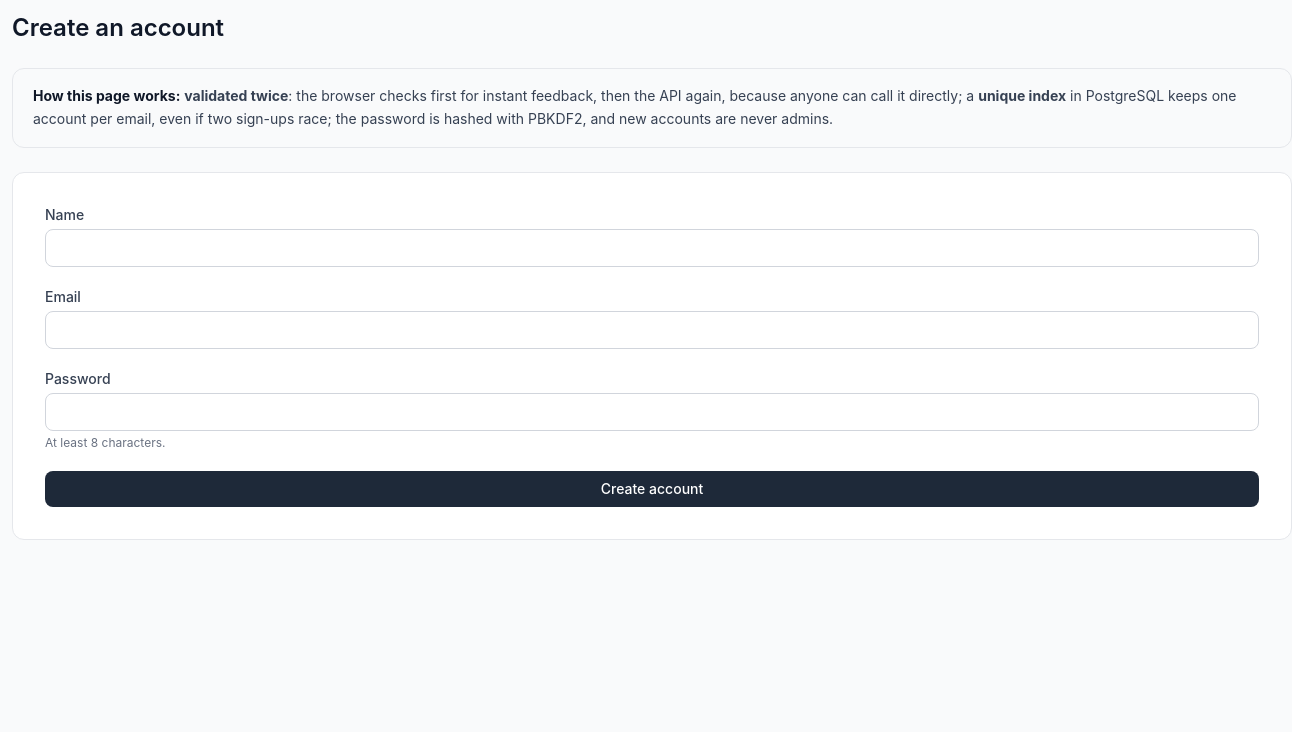
RegisterPage › shows a taken email under the email field
Type "New User" into the field labelled "Name" at (652, 248), box x1=45 y1=228 x2=1259 y2=266
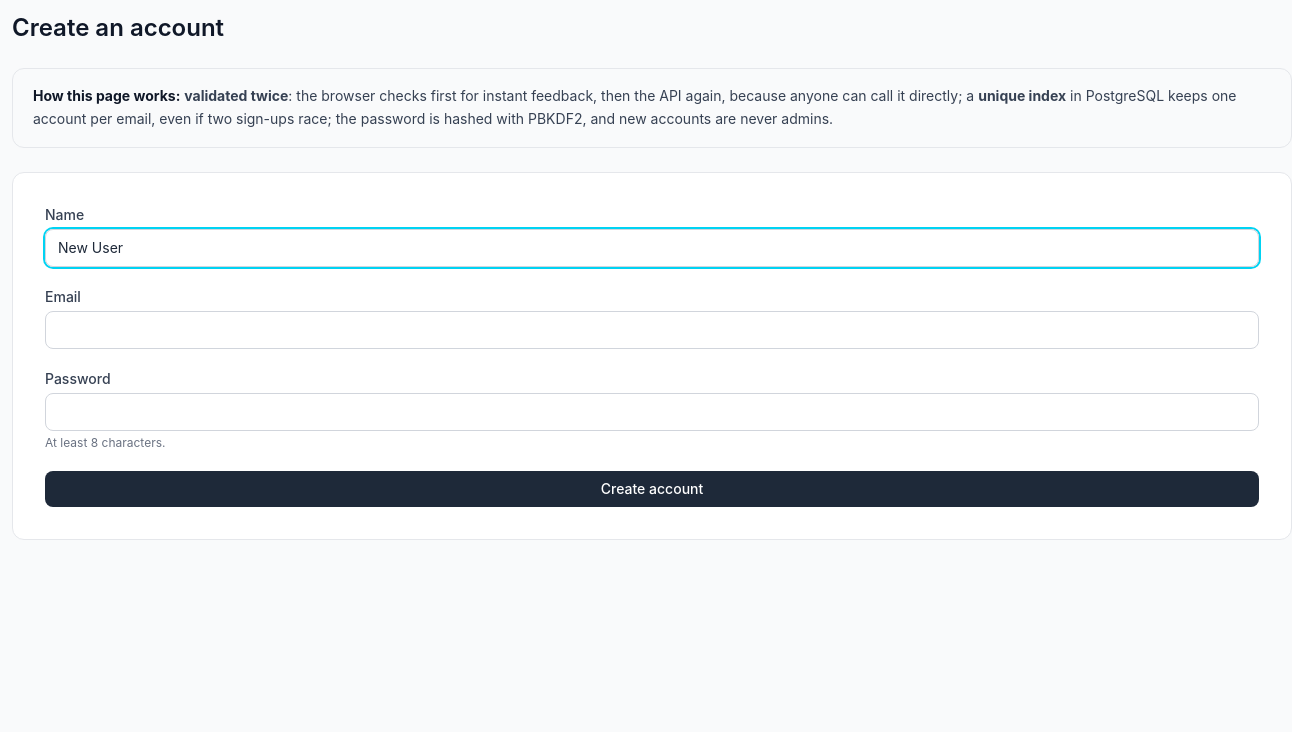
Type "new.user@example.com" into the field labelled "Email" at (652, 330), box x1=45 y1=310 x2=1259 y2=348
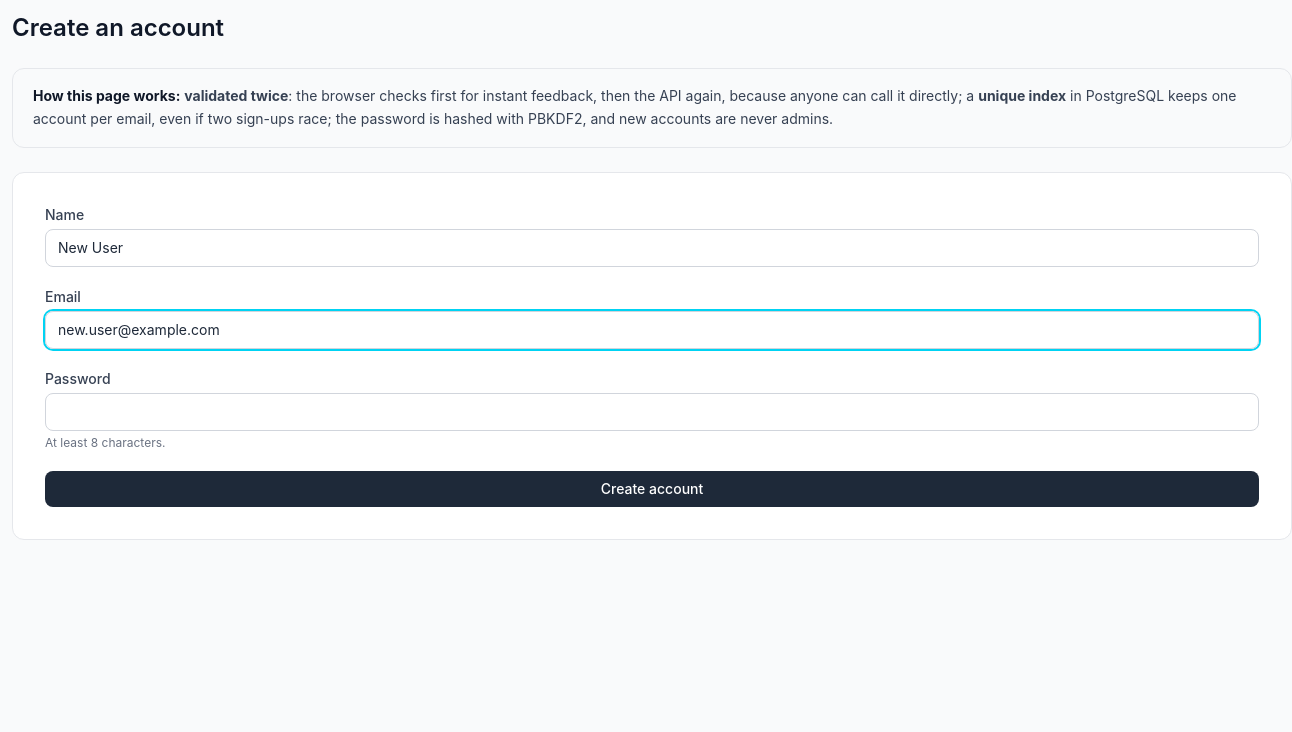
Type "secret-password" into the password field labelled "Password" at (652, 412), box x1=45 y1=392 x2=1259 y2=430
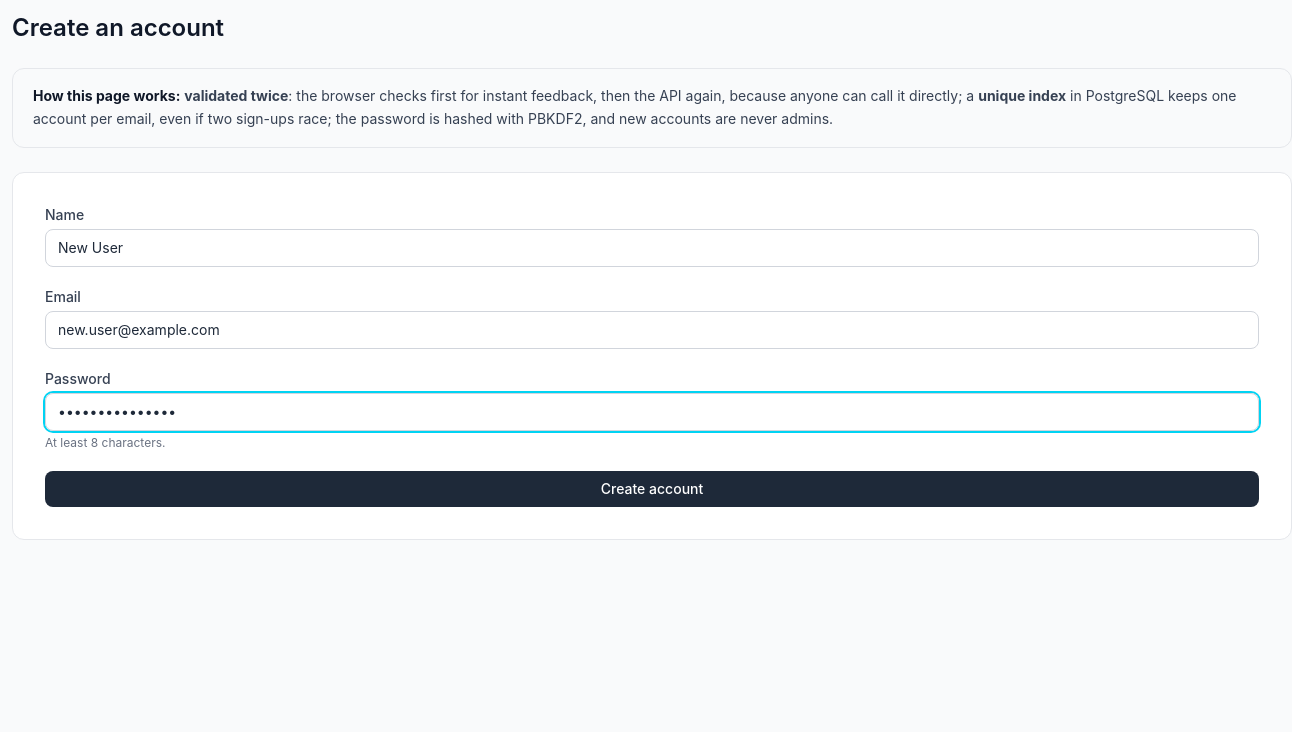
Click the button "Create account" at (652, 488), box x1=45 y1=470 x2=1259 y2=506
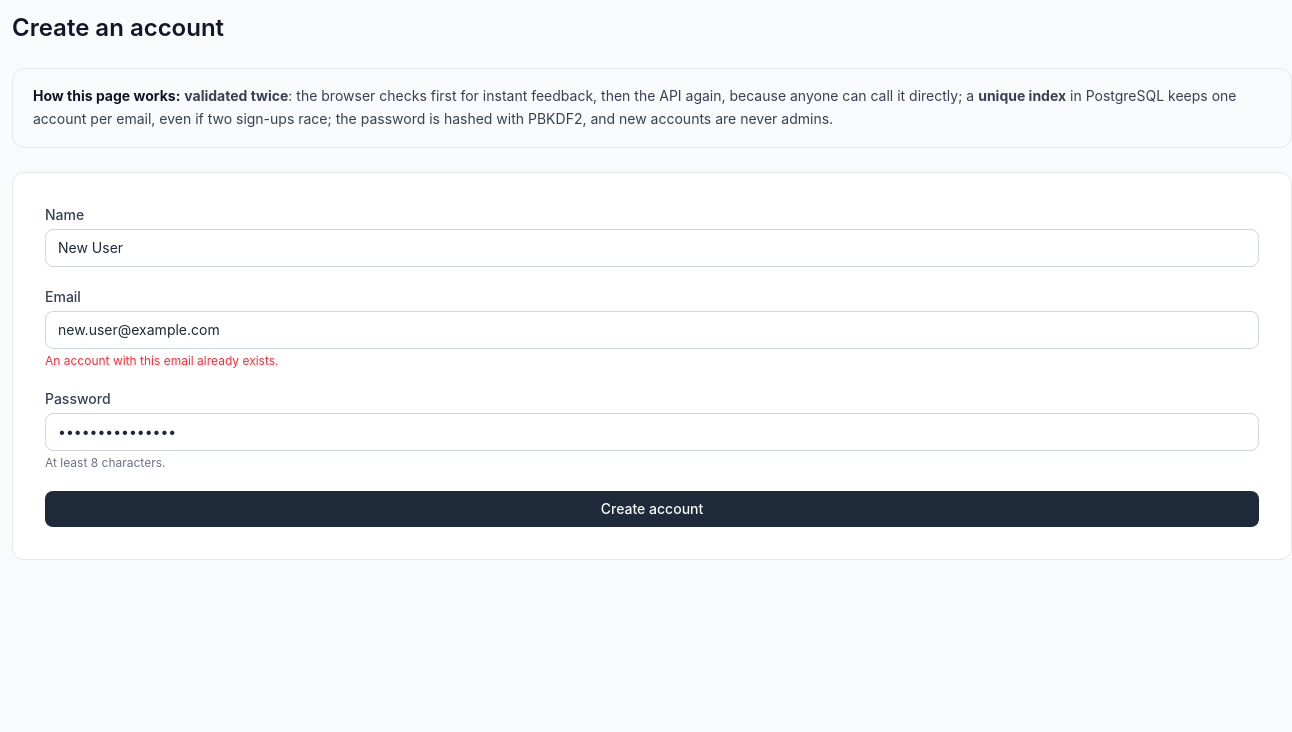
Expected: the text "An account with this email already exists." is shown, x1=45 y1=352 x2=278 y2=368
